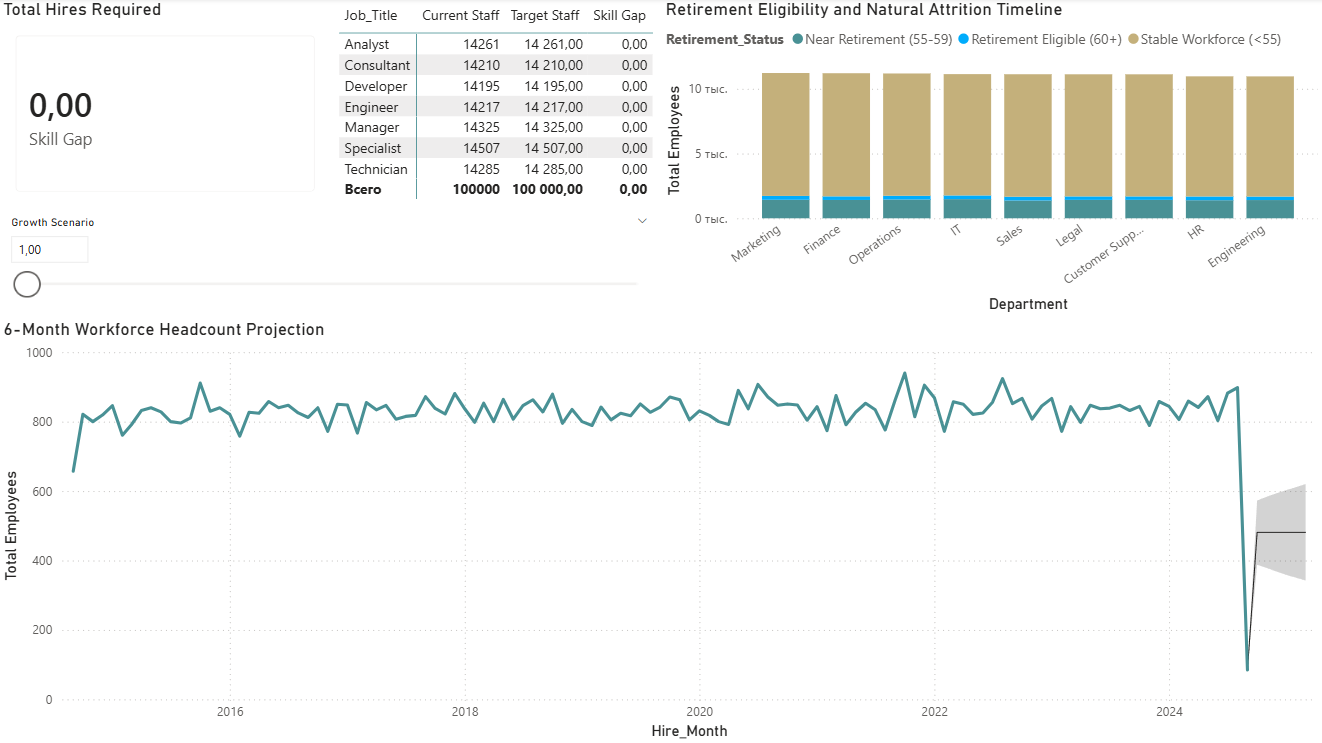

The dashboard page shown, as its layout file describes it:
{"tool":"powerbi","page":{"name":"Workforce Planning & Forecasting","canvas":[1280,720],"ordinal":5},"visuals":[{"type":"slicer","fields":{"Values":["Growth Scenario.Growth Scenario"]},"box":[0,204.6,639.4,103.7],"z":0},{"type":"lineChart","title":"6-Month Workforce Headcount Projection","fields":{"Y":["processed_employee_data.Total Employees"],"Category":["processed_employee_data.Hire_Month"]},"box":[0,308.3,1280.3,412.1],"z":1000},{"type":"columnChart","title":"Retirement Eligibility and Natural Attrition Timeline","fields":{"Category":["processed_employee_data.Department"],"Y":["processed_employee_data.Total Employees"],"Series":["processed_employee_data.Retirement_Status"]},"box":[639.4,0,640.9,308.3],"z":2000},{"type":"pivotTable","fields":{"Rows":["processed_employee_data.Job_Title"],"Values":["processed_employee_data.Total Employees","Growth Scenario.Projected Headcount","Growth Scenario.Skill Gap"]},"box":[324,0,315.5,204.6],"z":3000},{"type":"cardVisual","title":"Total Hires Required","fields":{"Data":["Growth Scenario.Skill Gap"]},"box":[0,0,324,204.6],"z":4000}]}

Visuals, with their boxes in screenshot pixels (x1, y1, x2, y2), scaled from the page's 1280x720 canvas onto the 1322x743 screenshot:
slicer - Growth Scenario.Growth Scenario: 0 211 660 318
"6-Month Workforce Headcount Projection" lineChart: 0 318 1321 742
"Retirement Eligibility and Natural Attrition Timeline" columnChart: 660 0 1321 318
pivotTable - processed_employee_data.Job_Title x processed_employee_data.Total Employees: 335 0 660 211
"Total Hires Required" cardVisual: 0 0 335 211
